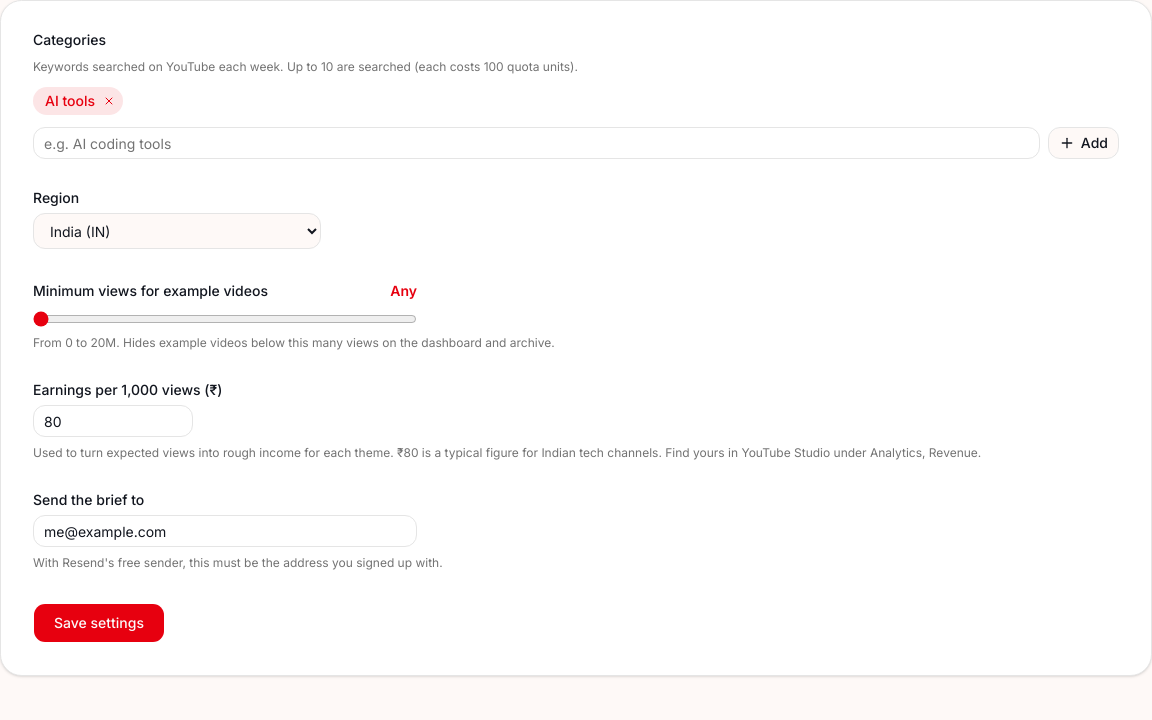
Scenario: SettingsForm categories › rejects a one-character category with a message
In the field labelled "Categories": (536, 143) top-left (33, 127), bottom-right (1040, 159), type "a"
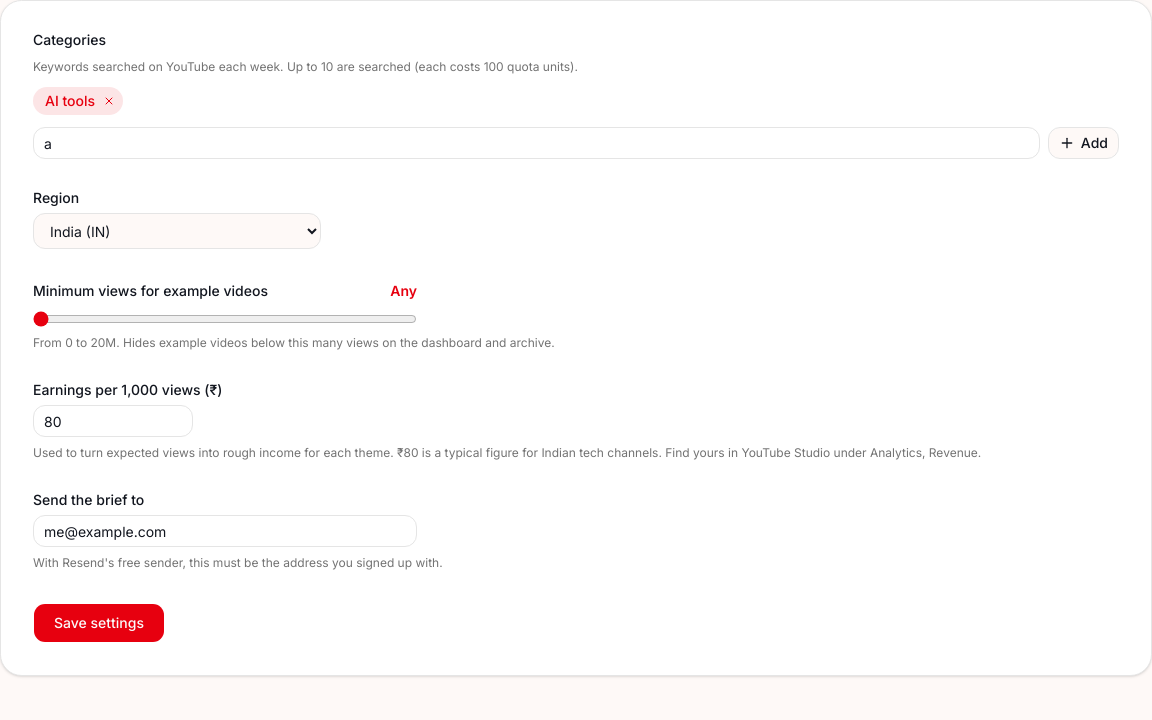
Click the button "Add": (1083, 143) top-left (1048, 127), bottom-right (1119, 159)
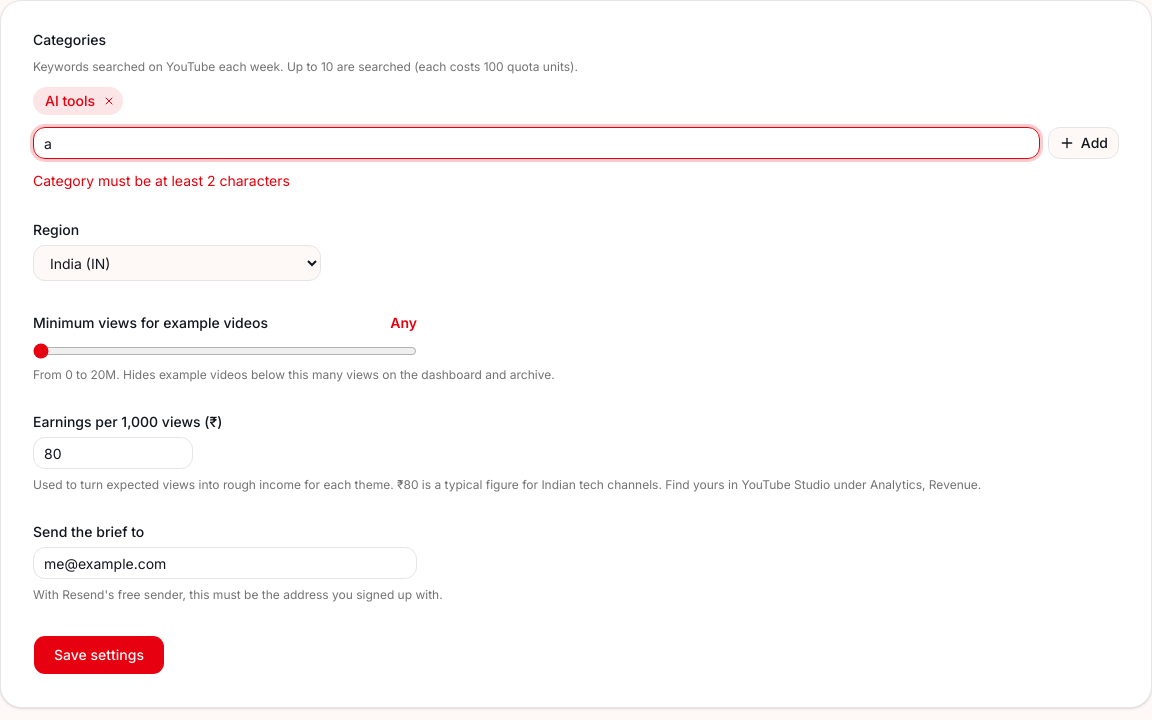
Expected: the number of list items is 1, top-left (33, 87), bottom-right (123, 115)
Expected: the message shows "at least 2 characters", top-left (33, 172), bottom-right (290, 189)
